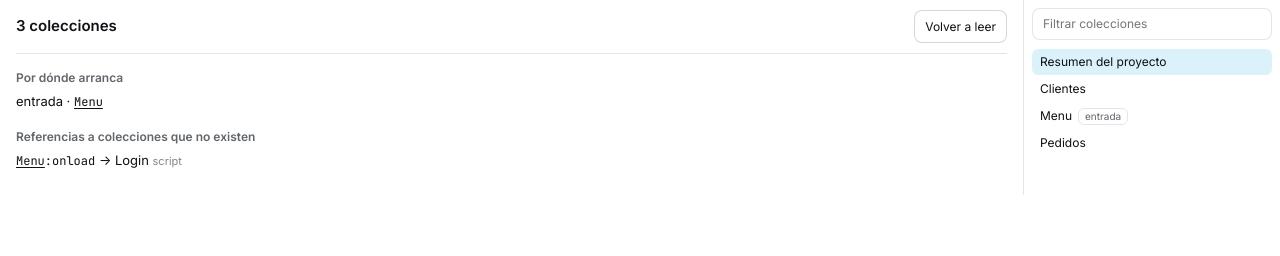
Scenario: Colecciones › sin nada que le apunte, lo dice CON su límite, no como «no se usa»
Click the button "Pedidos": (1152, 143) [1032, 130, 1272, 156]
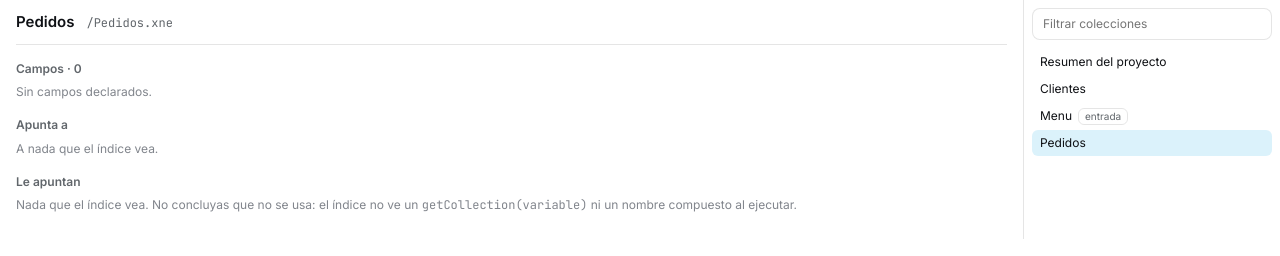
expect the text "No concluyas que no se usa" is shown: met, box [16, 197, 418, 212]
